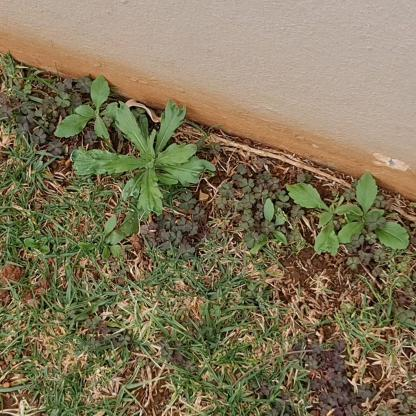Weeds: (71, 100, 215, 211), (287, 181, 364, 260), (338, 171, 411, 254), (55, 76, 130, 144)
